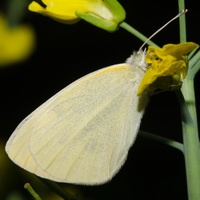insect: (6, 52, 144, 183)
